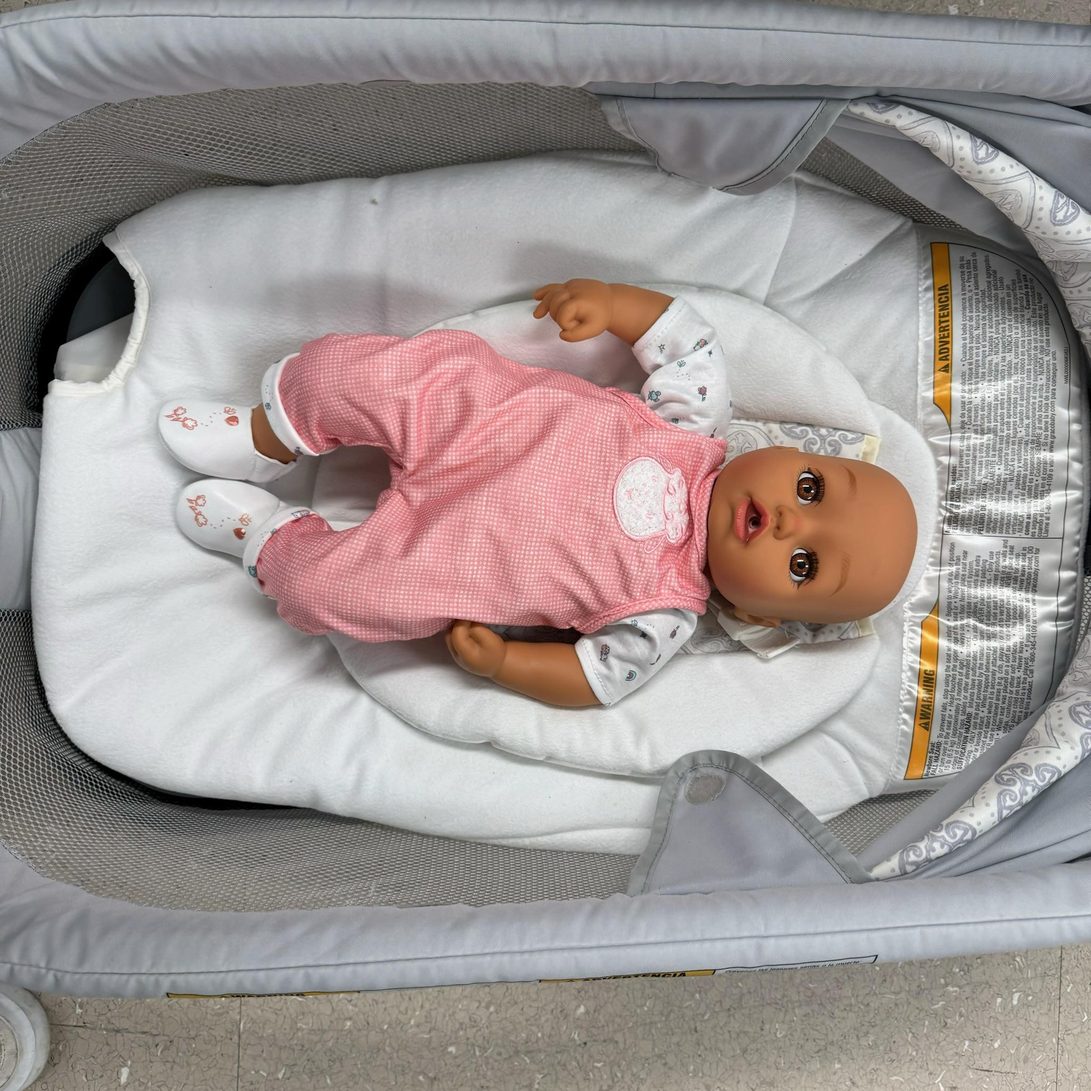baby: (157, 261, 928, 725)
